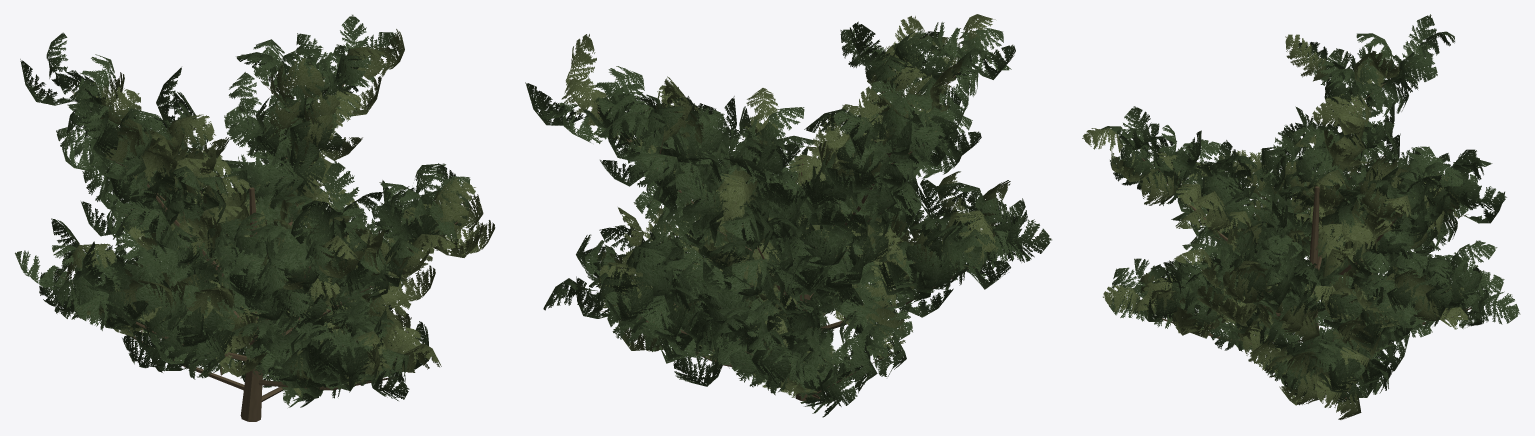
Rendered from SM_CN_Juniper_B.glb.
3 renders of one model, left to right at view 1: azimuth 30°, elevation 25°; view 2: azimuth 150°, elevation 25°; view 3: azimuth 270°, elevation 25°, orthographic. The views are drawn at different scales.
Visible parts, largest first — view 1: SM_CN_Juniper_B; view 2: SM_CN_Juniper_B; view 3: SM_CN_Juniper_B.
Part boxes in pixels (x1,y1,x2,y2): SM_CN_Juniper_B: (15, 14, 495, 421); SM_CN_Juniper_B: (525, 14, 1051, 417); SM_CN_Juniper_B: (1082, 14, 1520, 419).
Bounding box in the file's own units: 3.3 × 2.65 × 3.5.
Materials: 2 (2 with a texture image).
